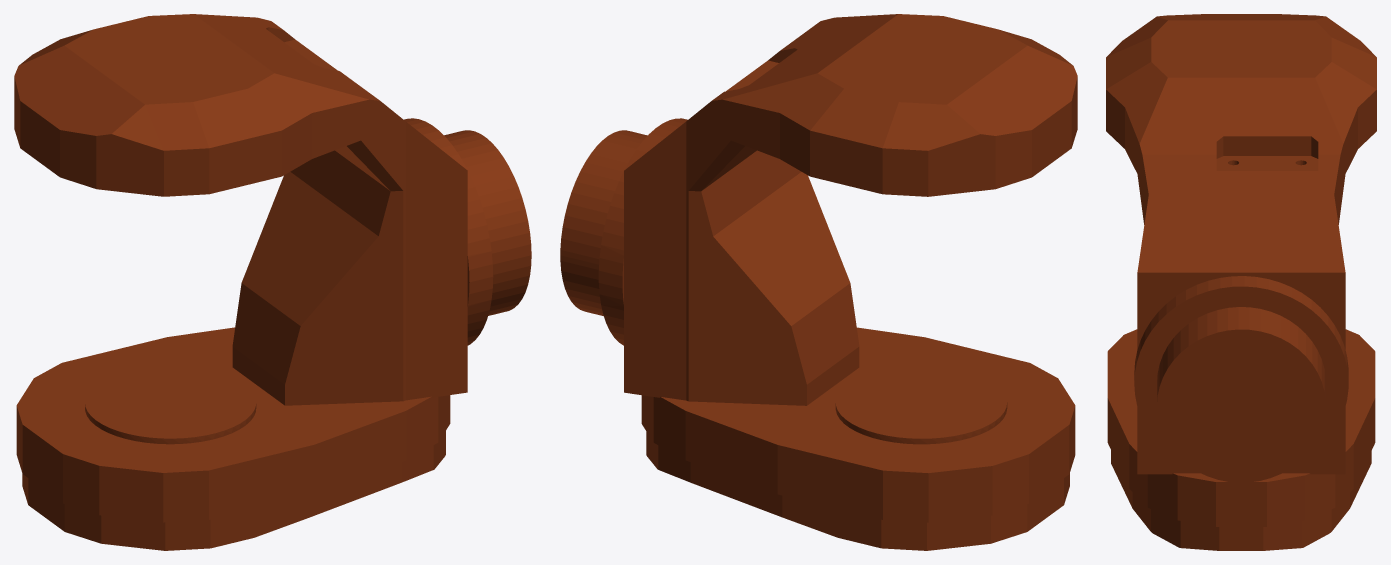
3 views of the same model, side by side, from view 1: azimuth 30°, elevation 25°; view 2: azimuth 150°, elevation 25°; view 3: azimuth 270°, elevation 25° (orthographic). The views are drawn at different scales.
Visible parts, largest first — view 1: Link_5; view 2: Link_5; view 3: Link_5.
Part boxes in pixels (x1,y1,x2,y2): Link_5: (14,14,531,550); Link_5: (560,14,1077,550); Link_5: (1106,14,1376,550).
Bounding box in the file's own units: 0.207 × 0.2001 × 0.12.
